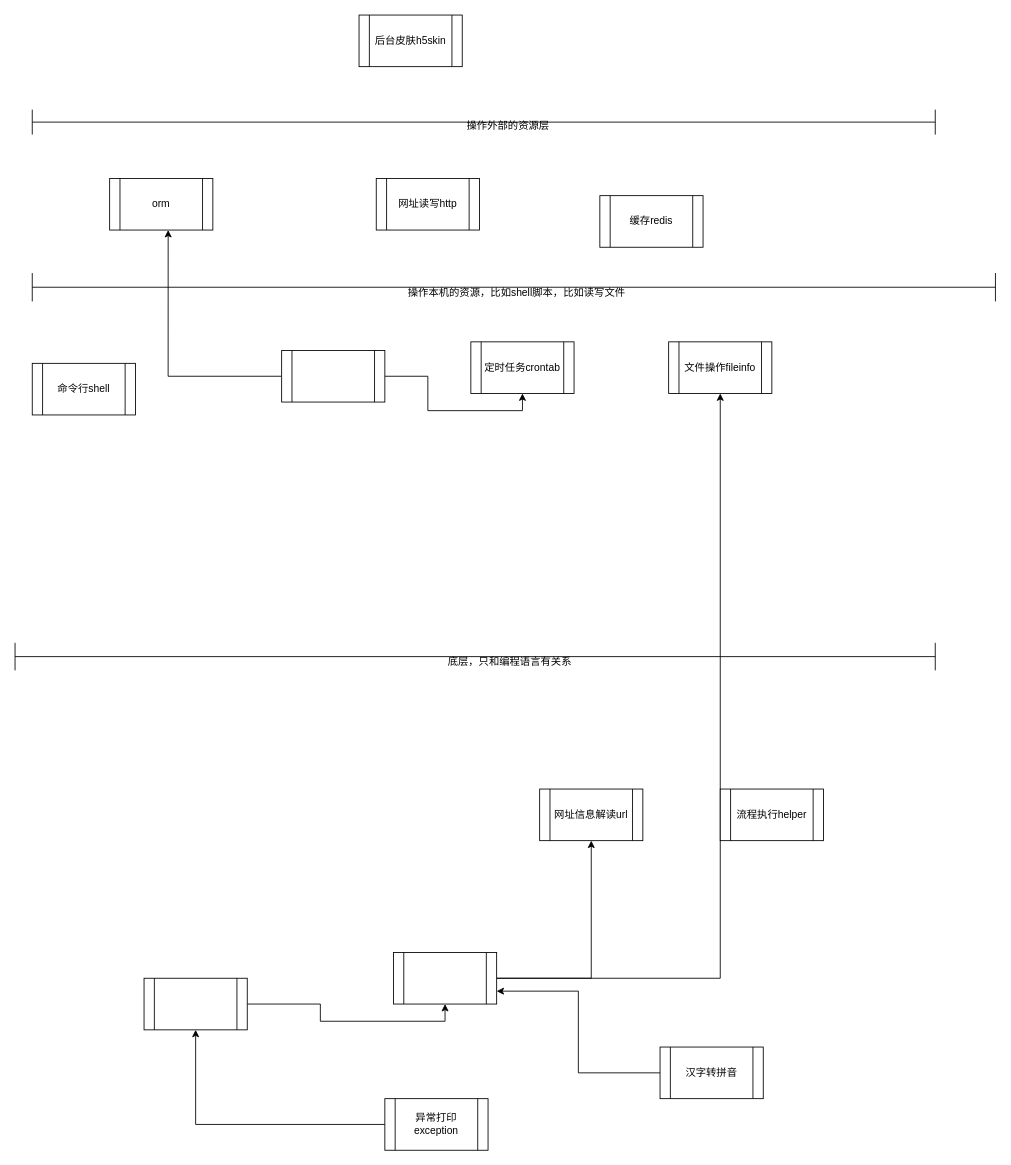
Image size: 1011x1165. Some labels were removed from this diagram. Each missing label, with the centre of its shape:
"字符串处理str" belongs at pixel 445 978.
"数组处理arr" belongs at pixel 195 1003.
"日志logger" belongs at pixel 333 376.
